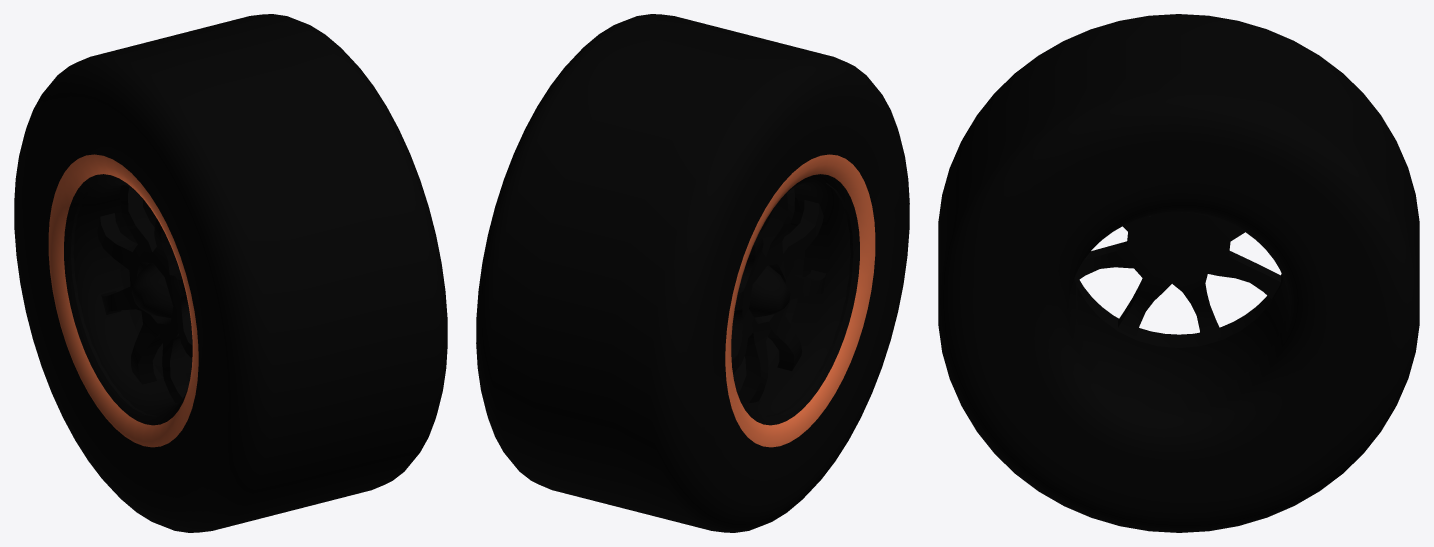
File: Tyre_Front_Right.glb
The picture shows the model from 3 angles, left to right: view 1: azimuth 30°, elevation 25°; view 2: azimuth 150°, elevation 25°; view 3: azimuth 270°, elevation 25°; orthographic projection.
Visible parts, largest first — view 1: Tyre_Front_Right-Tire, Rim_Front_Right, Tyre_Front_Right-Red; view 2: Tyre_Front_Right-Tire, Rim_Front_Right, Tyre_Front_Right-Red; view 3: Tyre_Front_Right-Tire, Rim_Front_Right.
Boxes of the visible parts, left/top/right/bottom form: Tyre_Front_Right-Tire: left=14, top=14, right=447, bottom=532; Rim_Front_Right: left=70, top=183, right=192, bottom=416; Tyre_Front_Right-Red: left=48, top=154, right=198, bottom=447; Tyre_Front_Right-Tire: left=476, top=14, right=909, bottom=532; Rim_Front_Right: left=731, top=183, right=853, bottom=416; Tyre_Front_Right-Red: left=725, top=154, right=875, bottom=447; Tyre_Front_Right-Tire: left=938, top=14, right=1419, bottom=532; Rim_Front_Right: left=1069, top=212, right=1288, bottom=393.
Bounding box in the file's own units: 36.61 × 70.82 × 70.39.
